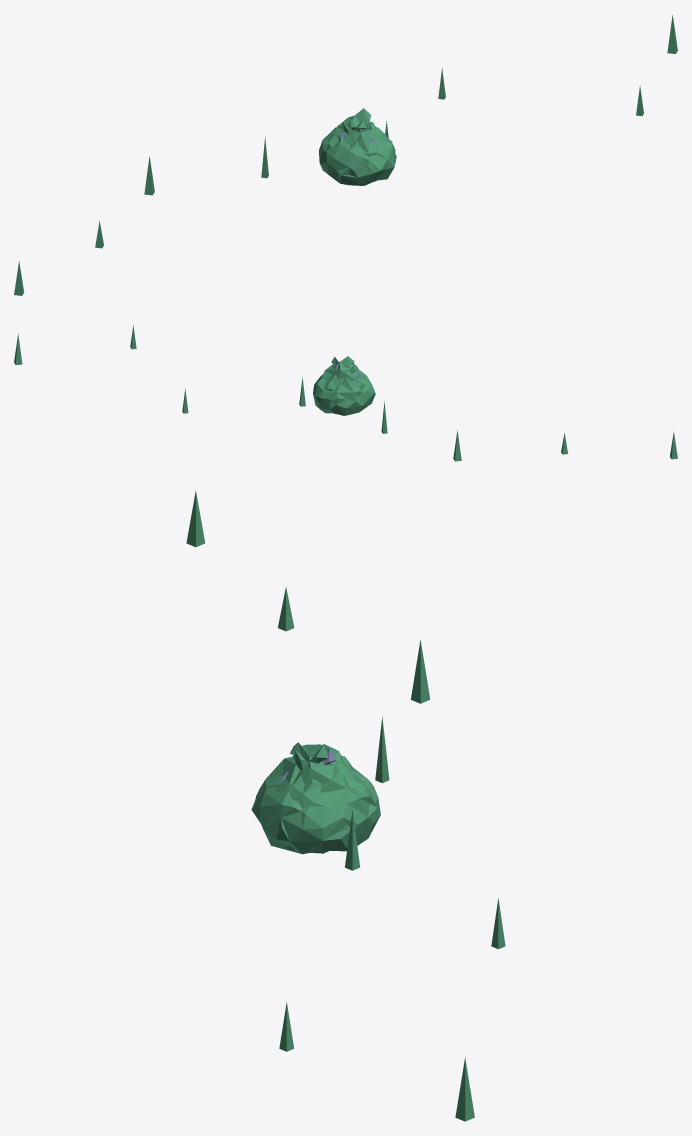
The model's file is env_brush.glb.
3 renders of one model, top to bottom at view 1: azimuth 30°, elevation 25°; view 2: azimuth 150°, elevation 25°; view 3: azimuth 270°, elevation 25°, orthographic. The views are drawn at different scales.
Parts seen in each view (by area): view 1: Env_Bush3, Env_Bush0; view 2: Env_Bush3, Env_Bush0; view 3: Env_Bush3, Env_Bush0.
Part boxes in pixels (box(x1,y1,x2,y2)): Env_Bush3: box(319, 119, 396, 185); Env_Bush0: box(327, 108, 387, 184); Env_Bush3: box(313, 356, 375, 415); Env_Bush0: box(320, 357, 365, 414); Env_Bush3: box(251, 742, 380, 854); Env_Bush0: box(264, 743, 366, 853).
Bounding box in the file's own units: 10.65 × 0.8472 × 2.47.
